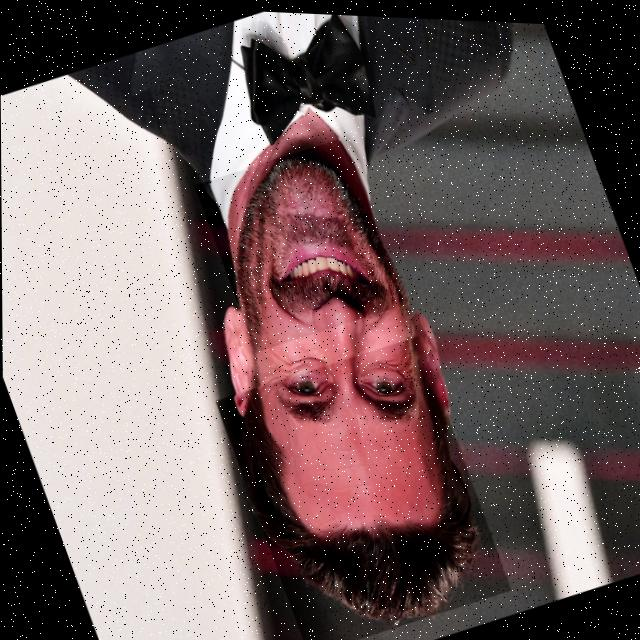beard: (228, 150, 394, 347)
hair: (245, 374, 480, 619)
